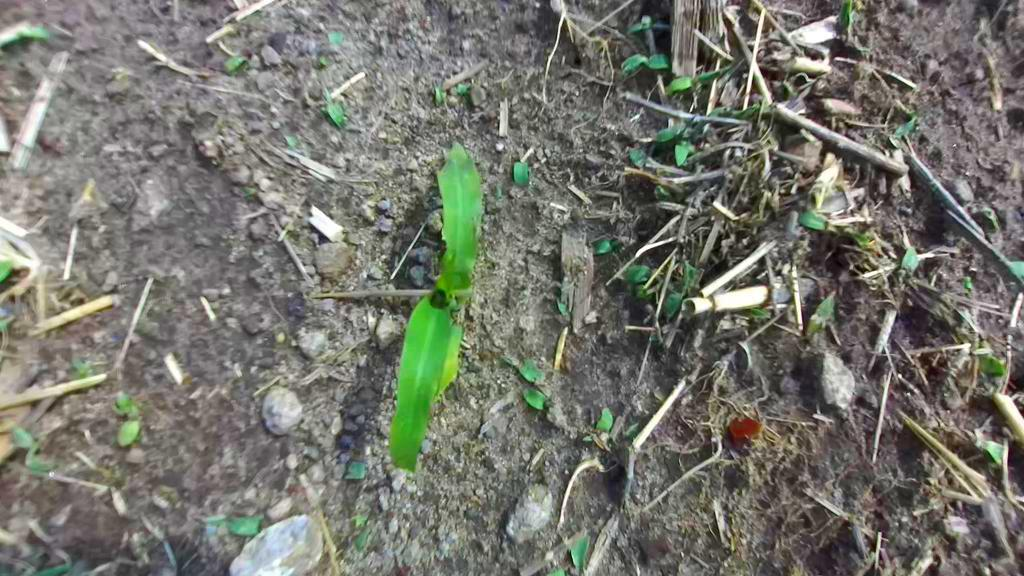BroWeed: (0, 420, 59, 481), (961, 414, 1016, 476), (656, 259, 701, 325), (136, 509, 185, 569), (797, 290, 848, 342), (664, 65, 733, 97), (494, 351, 549, 388), (100, 484, 143, 527), (312, 84, 352, 130), (114, 400, 148, 450), (797, 206, 844, 242), (619, 47, 671, 78), (837, 11, 871, 58), (33, 547, 88, 576), (812, 93, 864, 123), (0, 15, 48, 47), (679, 116, 715, 157), (514, 376, 552, 414), (202, 513, 262, 537), (44, 500, 80, 536), (672, 112, 695, 168), (567, 525, 592, 576), (976, 349, 1008, 387), (125, 521, 162, 552), (835, 221, 873, 250), (625, 10, 670, 34), (897, 245, 920, 291), (707, 101, 759, 121), (614, 262, 657, 286), (890, 111, 923, 142), (220, 50, 254, 78), (150, 484, 184, 510), (591, 231, 621, 258), (912, 493, 947, 515), (535, 377, 559, 408), (594, 405, 617, 436), (109, 389, 135, 416), (325, 26, 355, 49), (616, 414, 642, 440), (69, 350, 91, 379), (344, 459, 369, 483), (352, 524, 372, 554), (654, 123, 681, 144), (628, 143, 649, 169), (511, 159, 530, 187), (131, 544, 153, 568), (979, 368, 997, 397), (970, 342, 995, 362), (583, 430, 608, 450), (431, 76, 447, 106), (283, 132, 302, 157), (597, 431, 615, 455), (449, 80, 473, 98), (541, 560, 566, 576), (652, 183, 672, 203), (1008, 260, 1024, 282), (142, 537, 162, 554), (651, 383, 667, 404), (543, 538, 556, 563), (887, 133, 905, 151), (811, 76, 827, 96), (0, 258, 13, 281), (749, 307, 772, 319), (556, 296, 569, 317), (0, 418, 17, 433), (318, 53, 335, 68), (234, 186, 258, 196), (635, 285, 649, 300), (493, 182, 504, 201), (352, 513, 367, 526), (523, 357, 537, 369), (962, 275, 973, 290), (182, 371, 192, 385), (865, 227, 875, 239), (627, 283, 636, 295)
Maize: (380, 137, 500, 478)
